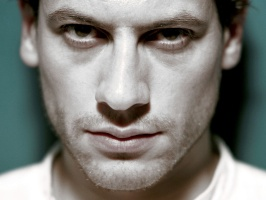Forehead: (38, 1, 220, 21)
